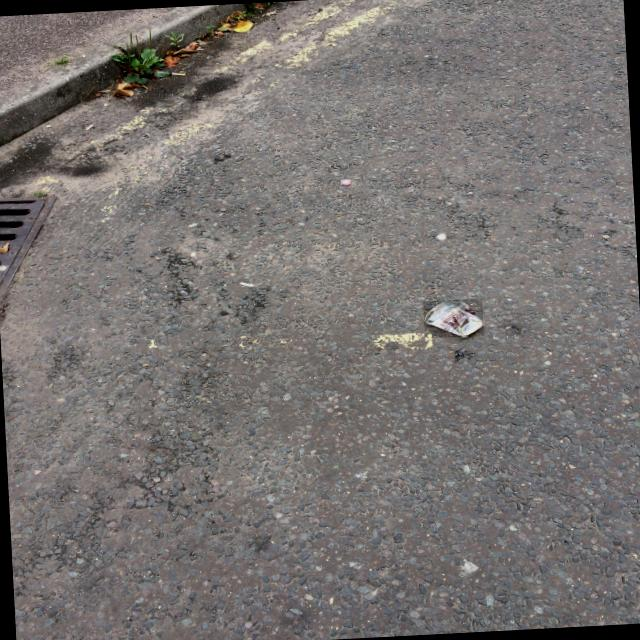Cigarette: (172, 73, 184, 76), (86, 125, 93, 130)
Cup: (425, 301, 484, 337)
Other plastic bottle: (341, 180, 351, 185)
